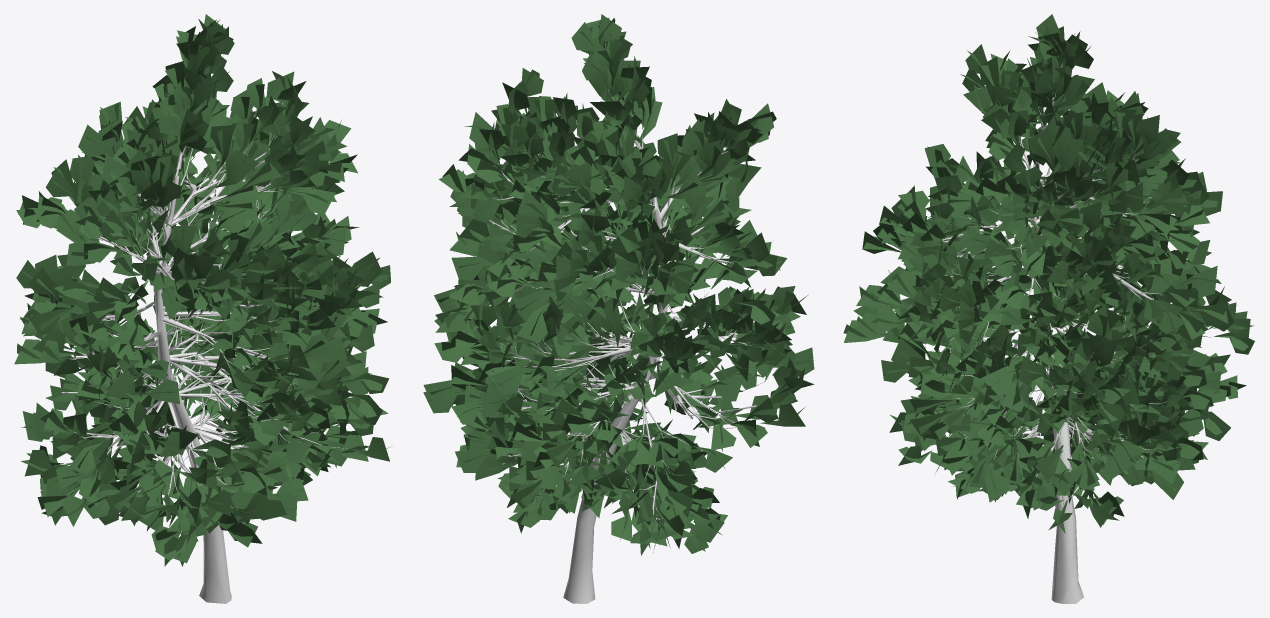
The model's file is Baum3.fbx.
The picture shows the model from 3 angles, left to right: view 1: azimuth 30°, elevation 25°; view 2: azimuth 150°, elevation 25°; view 3: azimuth 270°, elevation 25°; orthographic projection. The views are drawn at different scales.
Visible parts, largest first — view 1: Tree_Pinus-ponderosa_D_spring-summer-autumn; view 2: Tree_Pinus-ponderosa_D_spring-summer-autumn; view 3: Tree_Pinus-ponderosa_D_spring-summer-autumn.
Part boxes in pixels (x1,y1,x2,y2): Tree_Pinus-ponderosa_D_spring-summer-autumn: (14, 14, 390, 603); Tree_Pinus-ponderosa_D_spring-summer-autumn: (423, 14, 814, 603); Tree_Pinus-ponderosa_D_spring-summer-autumn: (843, 14, 1254, 603).
Size of the model in its own units: 485 by 790 by 515.
